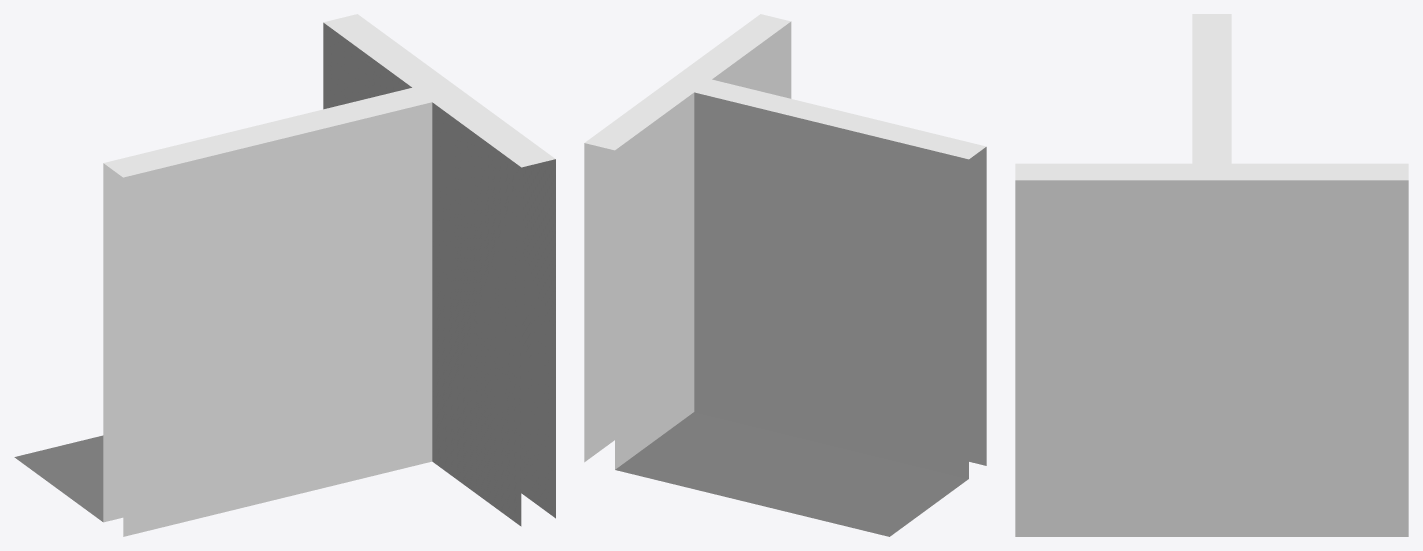
Rendered from E_Wall_T_Shape_Elevator.fbx.
3 renders of one model, left to right at view 1: azimuth 30°, elevation 25°; view 2: azimuth 150°, elevation 25°; view 3: azimuth 270°, elevation 25°, orthographic. The views are drawn at different scales.
Visible parts, largest first — view 1: E_Wall_T_Shape; view 2: E_Wall_T_Shape; view 3: E_Wall_T_Shape.
Boxes of the visible parts, x1,y1,x2,y2 form: E_Wall_T_Shape: [14, 14, 555, 536]; E_Wall_T_Shape: [584, 14, 986, 536]; E_Wall_T_Shape: [1015, 14, 1408, 536].
Size of the model in its own units: 200 by 200 by 200.
